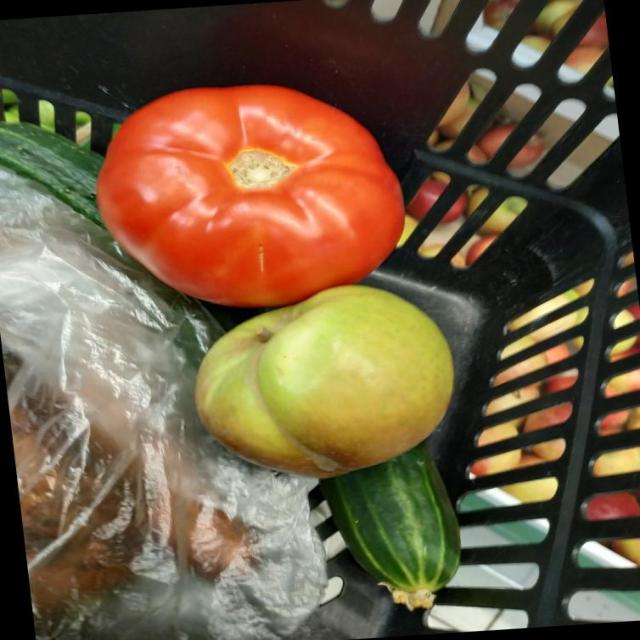Apple: (195, 286, 453, 478)
Cucumber: (321, 440, 459, 593), (0, 123, 103, 224)
Tomatoes: (97, 85, 403, 306)
